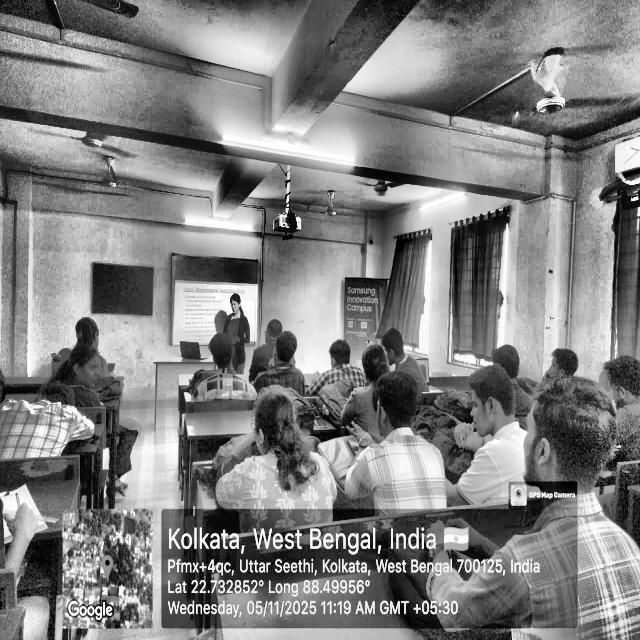Focus: (466, 342, 634, 573), (276, 302, 456, 453), (242, 387, 453, 499), (220, 266, 256, 388)
Not Focus: (63, 338, 118, 420)
